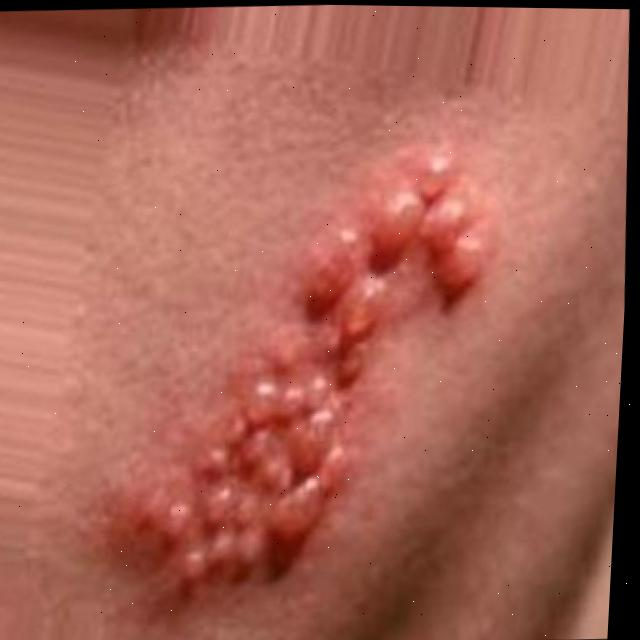Shingles: (124, 150, 520, 597)
